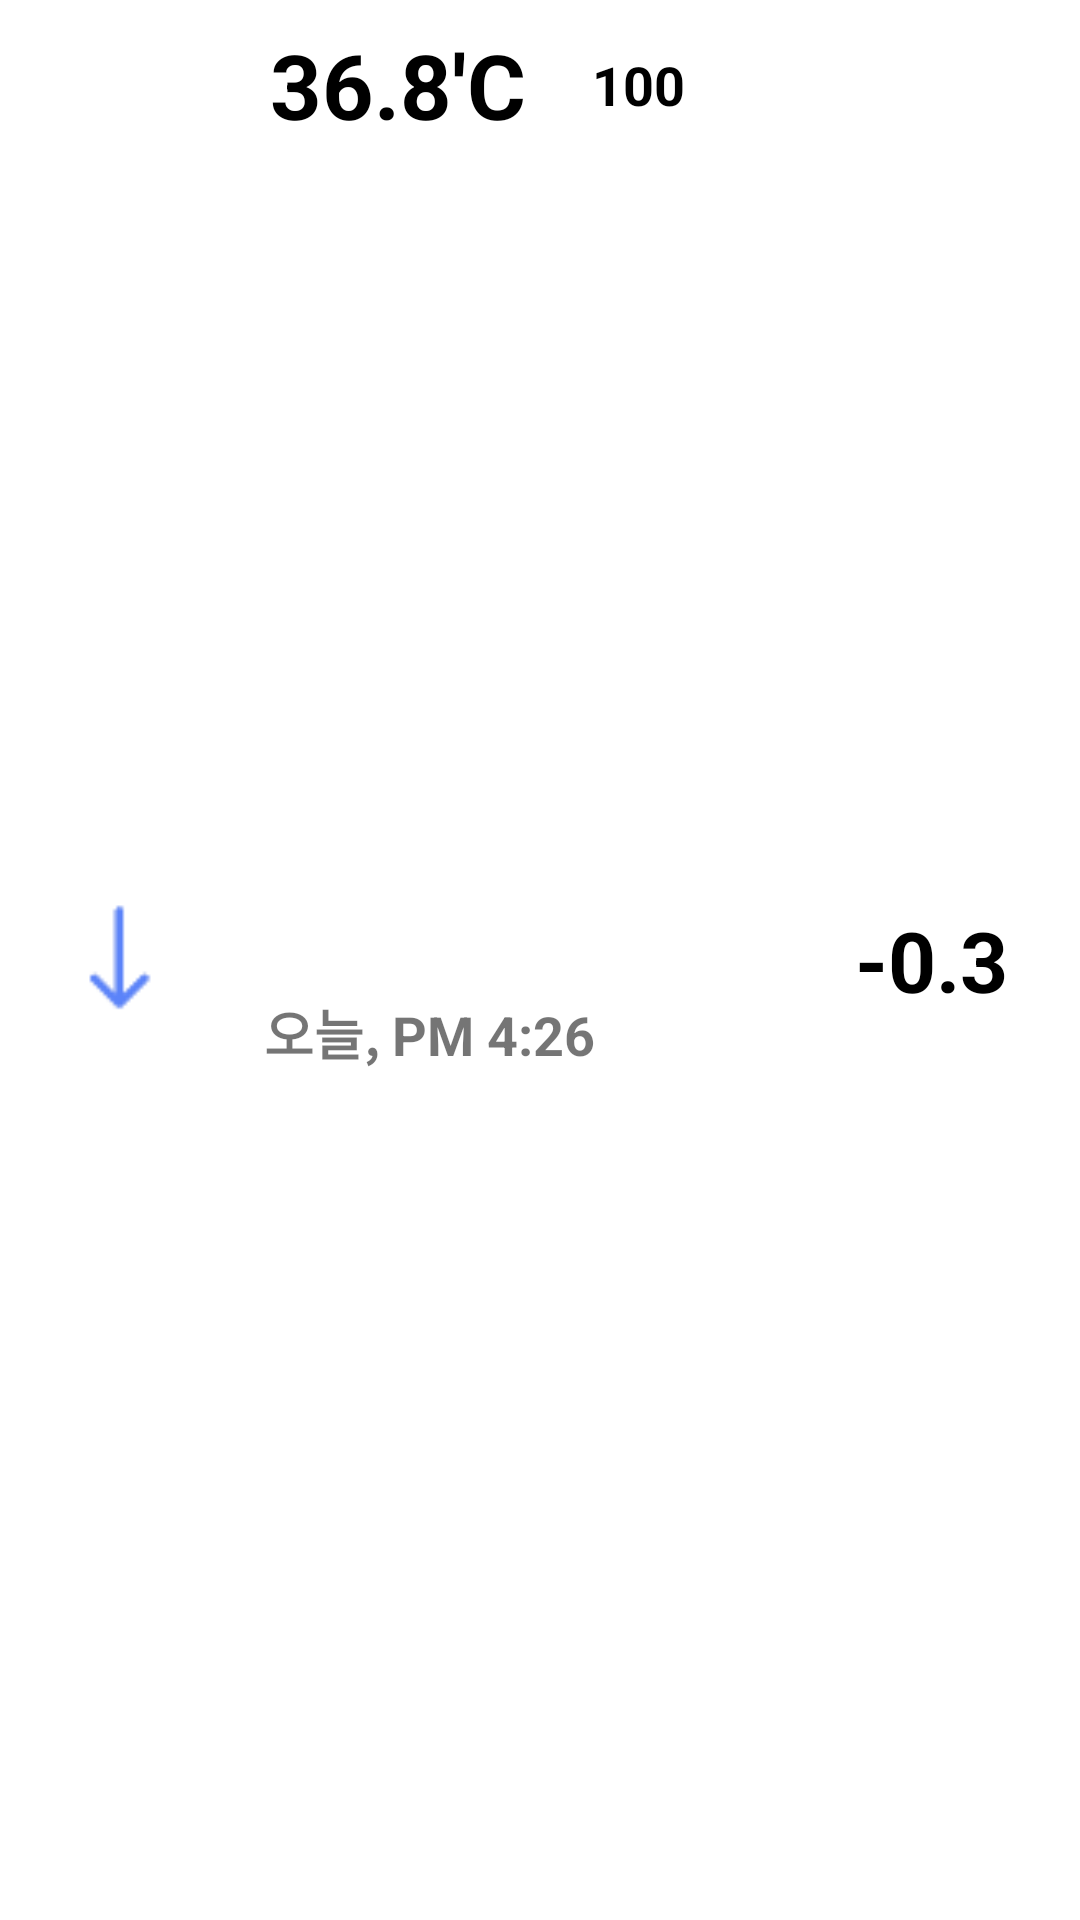

Point at icon controls on the screen. Image size 1080px x 1920px, points as (x,y).
bluearrow: (120,957)
